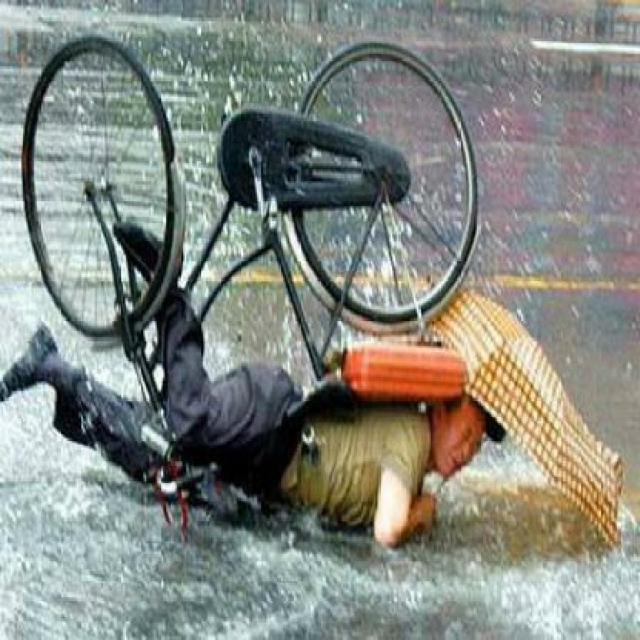fall: (8, 214, 501, 560)
